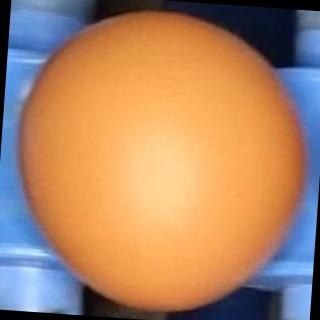Telur: (2, 1, 320, 320)
